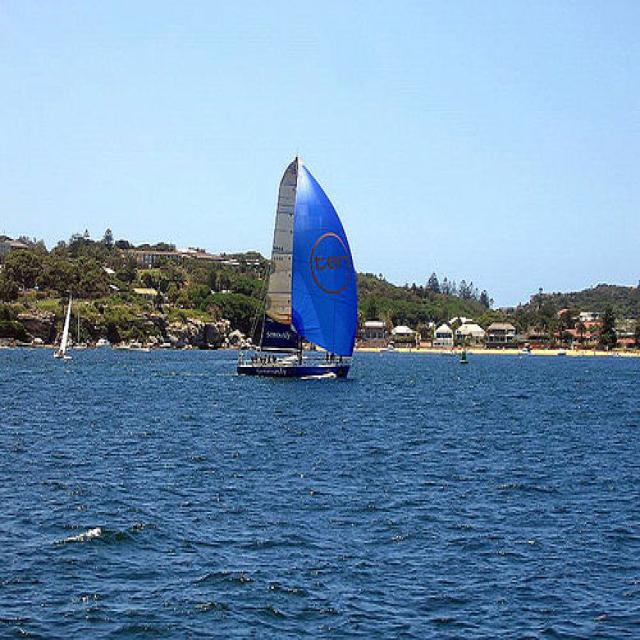boat: (235, 154, 358, 380), (52, 295, 75, 360)
